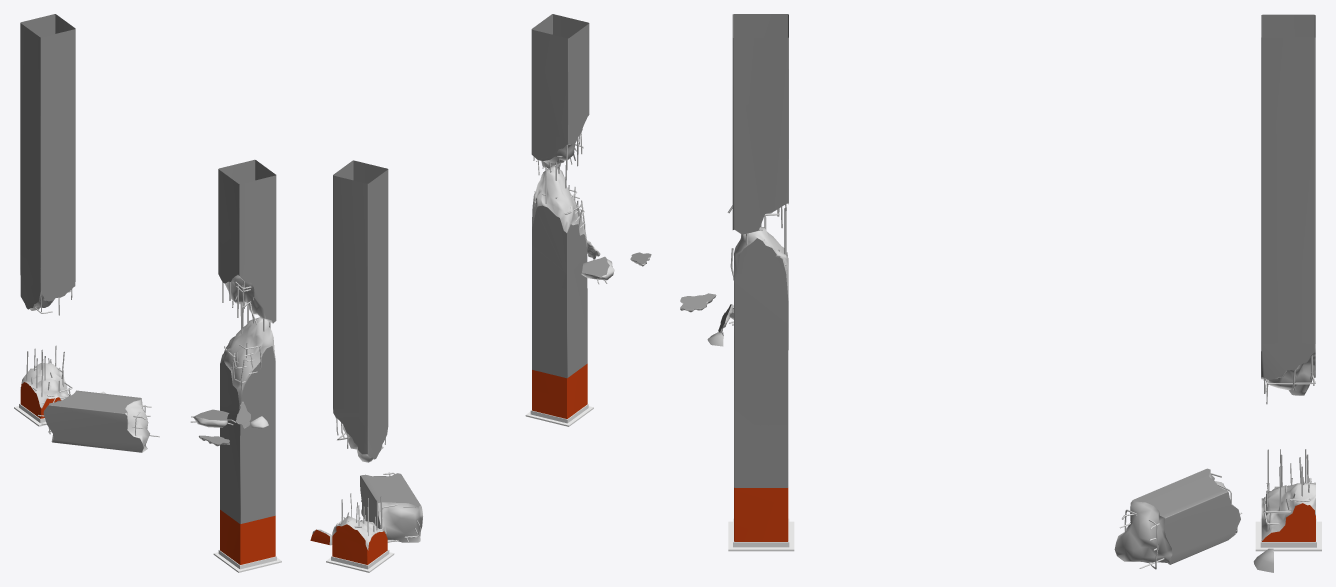
File: SM_H_Building_Tide_Loungehall_21E_ATLAS.fbx
The picture shows the model from 3 angles, left to right: view 1: azimuth 30°, elevation 25°; view 2: azimuth 150°, elevation 25°; view 3: azimuth 270°, elevation 25°; orthographic projection. The views are drawn at different scales.
Visible parts, largest first — view 1: SM_H_Building_Tide_Loungehall_21E_ATLAS; view 2: SM_H_Building_Tide_Loungehall_21E_ATLAS; view 3: SM_H_Building_Tide_Loungehall_21E_ATLAS.
Part boxes in pixels (x1,y1,x2,y2): SM_H_Building_Tide_Loungehall_21E_ATLAS: (14,14,281,572); SM_H_Building_Tide_Loungehall_21E_ATLAS: (310,14,651,572); SM_H_Building_Tide_Loungehall_21E_ATLAS: (680,14,1321,572).
Bounding box in the file's own units: 471 × 1614 × 1441.
